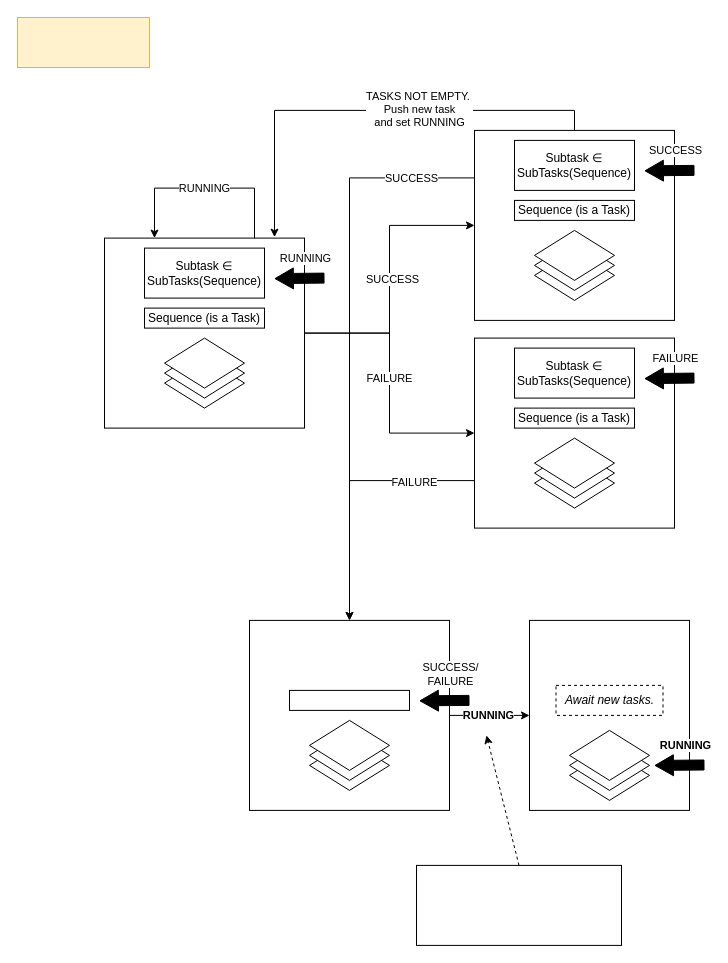
This 728x963 diagram has some shape labels left out. The shapes that lost their labels are listed below. From the top down, each one's centre as x and y in pixels, then its label:
point 83,42: Sequence Composite in TSM
point 349,699: Sequence
point 519,904: Since the sequence task was a root task, it will return RUNNING on exit.
